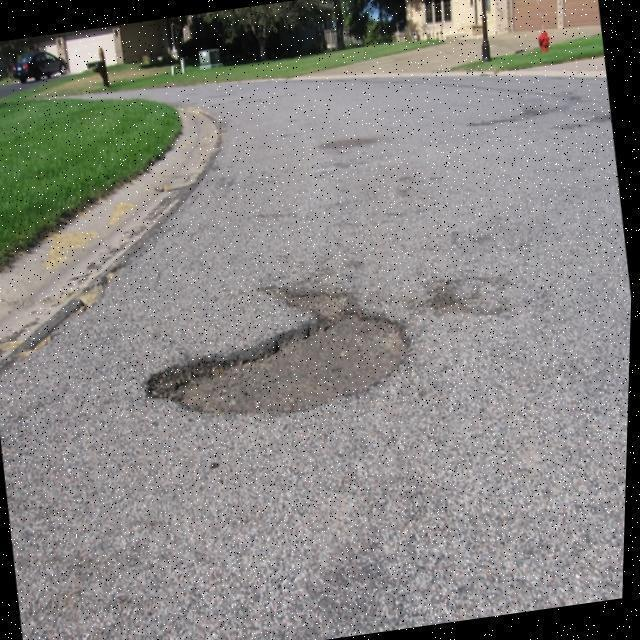Pothole: (146, 288, 409, 413)
